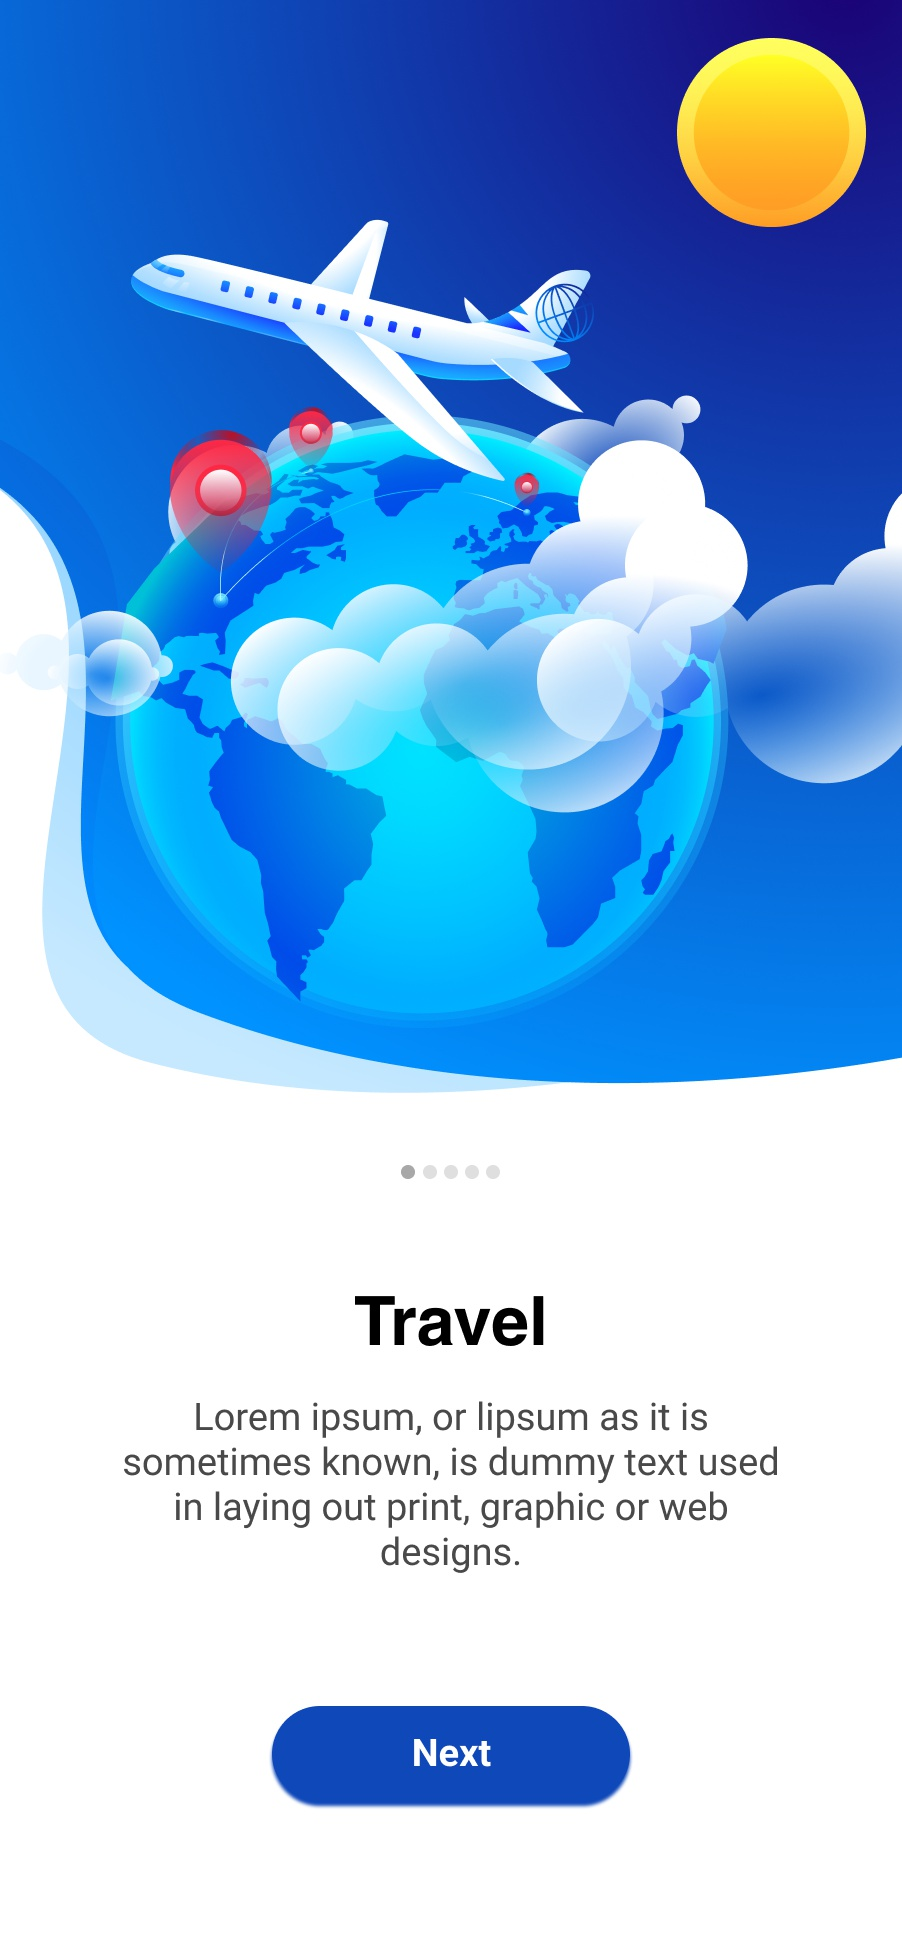Image: (1, 1, 902, 1095)
PageIndicator: (401, 1165, 502, 1180)
Text: (125, 1401, 777, 1574), (355, 1295, 544, 1346)
TextButton: (272, 1705, 632, 1809)
